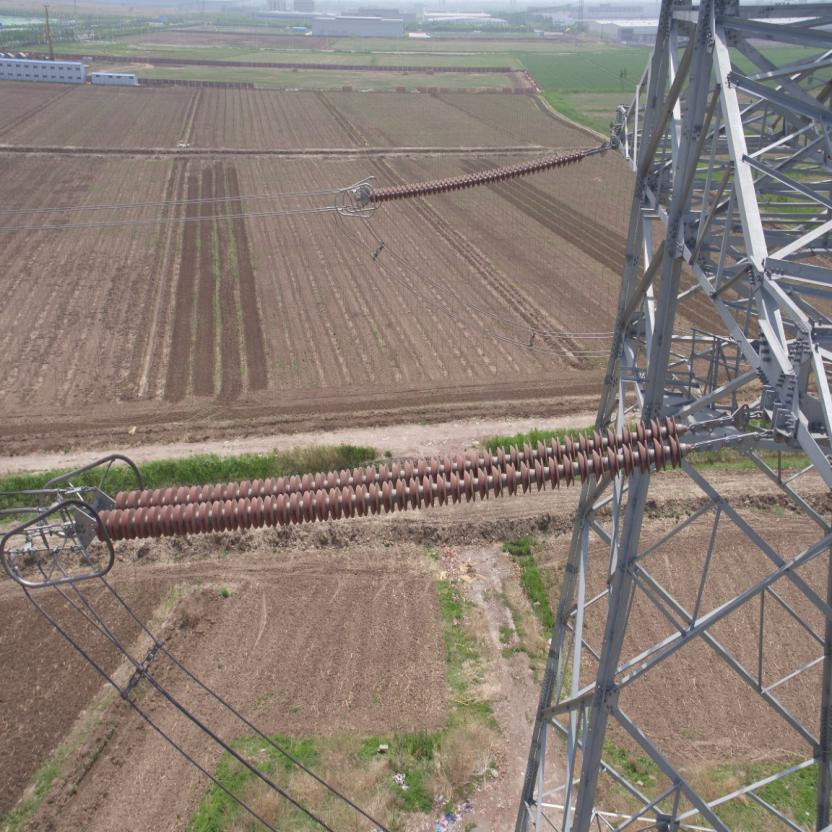insulator: (87, 408, 713, 545), (363, 146, 590, 204)
